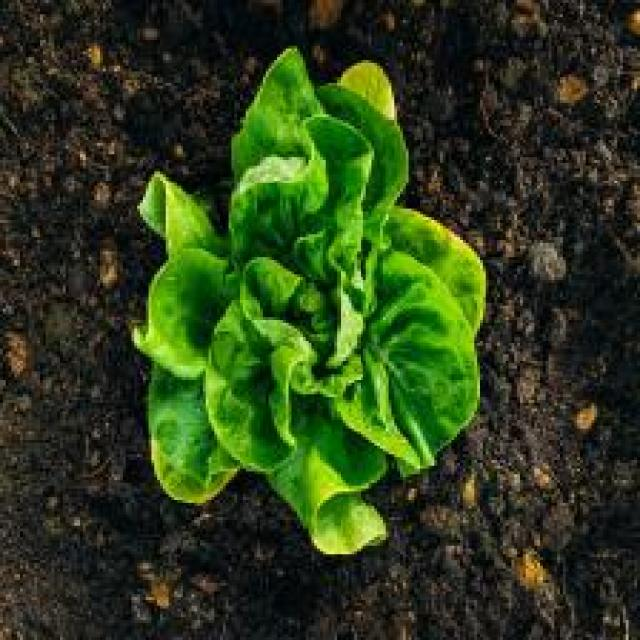Lettuce: (132, 36, 495, 560)
